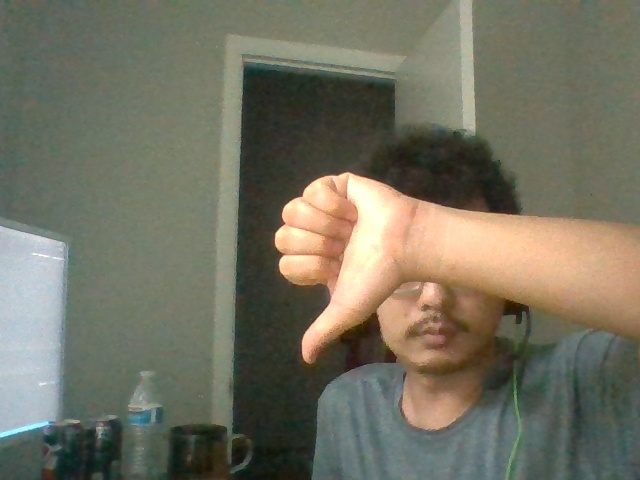ThumbsDown: (274, 172, 415, 365)
